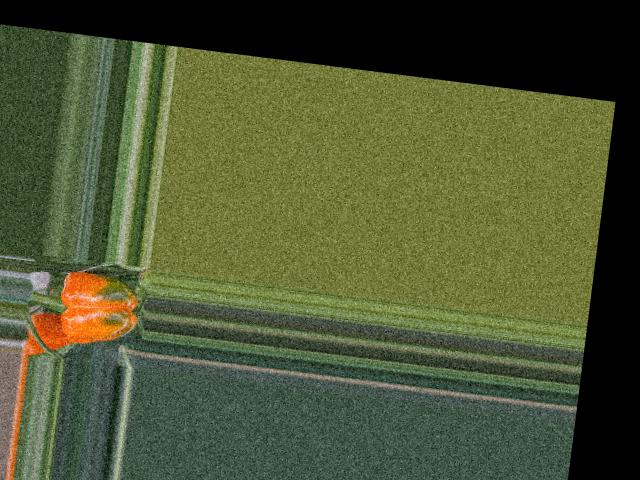bell_pepper: (46, 259, 149, 354)
